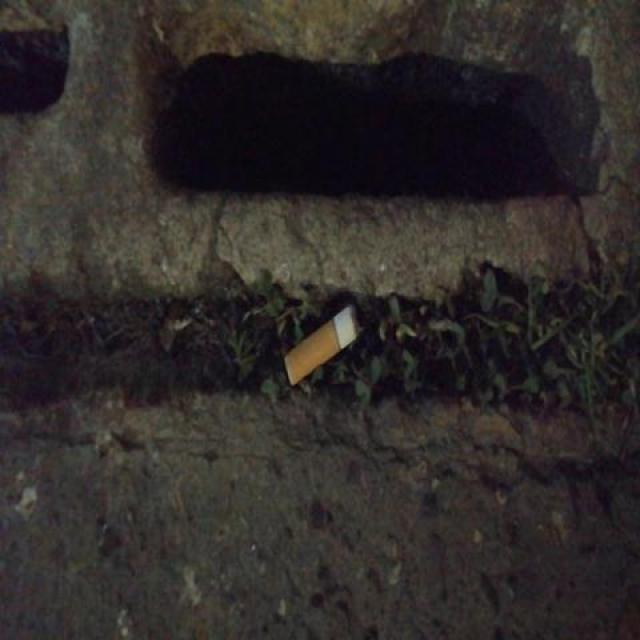non-organic waste: (281, 300, 367, 393)
